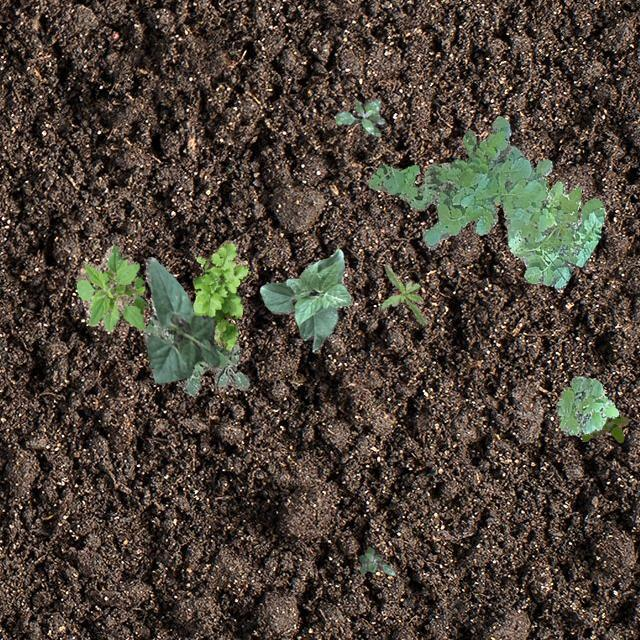crop: (258, 248, 350, 350), (144, 256, 218, 382), (544, 175, 548, 188)
weed: (368, 114, 604, 288), (142, 314, 248, 394), (74, 244, 148, 330), (190, 238, 247, 348), (556, 374, 618, 434), (379, 264, 426, 324), (334, 98, 384, 134), (580, 414, 628, 442), (358, 546, 394, 574)
